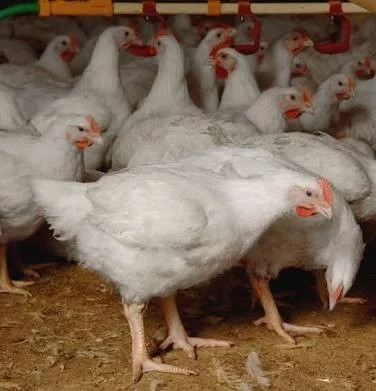Healthy: (283, 160, 339, 237), (47, 105, 113, 163), (317, 245, 369, 318), (253, 76, 318, 132), (91, 20, 147, 79), (142, 28, 191, 89), (263, 20, 321, 71), (39, 29, 88, 83), (206, 42, 254, 91), (313, 68, 362, 115)
